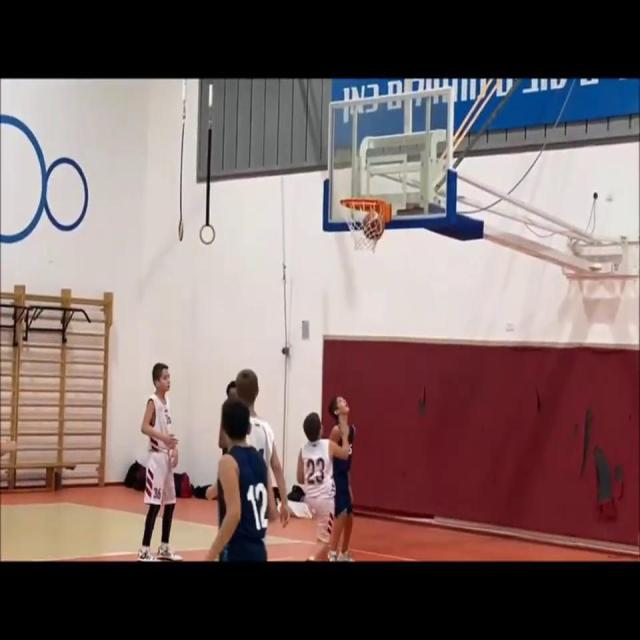basketball: (362, 211, 385, 241)
hoop: (340, 197, 388, 255), (339, 198, 387, 255)
